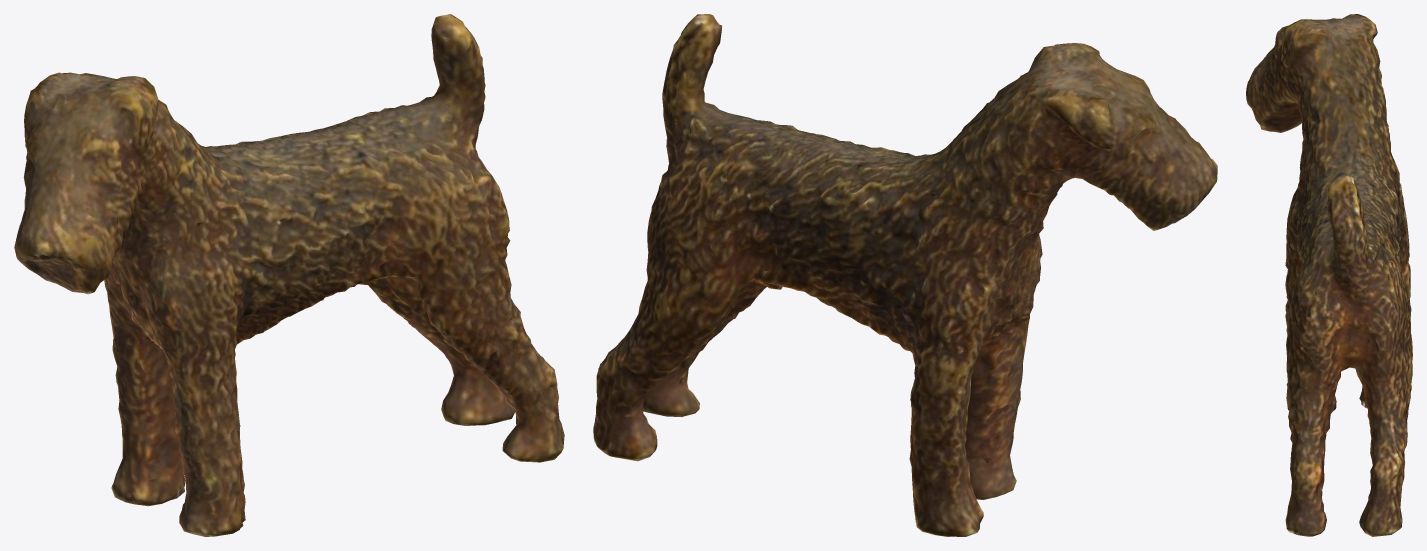
The model's file is terrier.glb.
The picture shows the model from 3 angles, left to right: view 1: azimuth 30°, elevation 25°; view 2: azimuth 150°, elevation 25°; view 3: azimuth 270°, elevation 25°; orthographic projection. The views are drawn at different scales.
Parts seen in each view (by area): view 1: Object_2.001; view 2: Object_2.001; view 3: Object_2.001.
Boxes of the visible parts, x1=… form: Object_2.001: x1=14, y1=14, x2=564, y2=536; Object_2.001: x1=593, y1=14, x2=1217, y2=536; Object_2.001: x1=1246, y1=14, x2=1412, y2=536.
Bounding box in the file's own units: 1.71 × 1.37 × 0.5827.
1 material, 1 textured.
